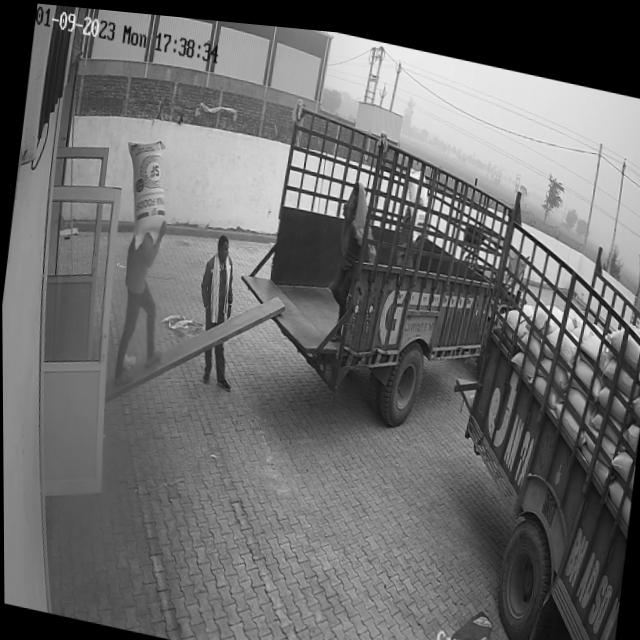sack: (115, 129, 173, 252)
